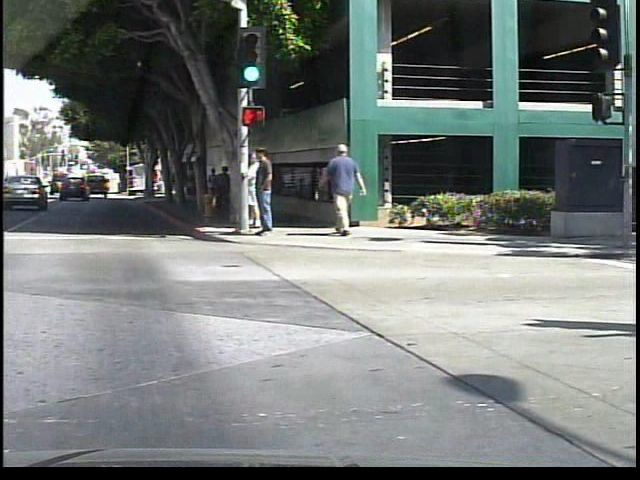person: (323, 141, 373, 239), (244, 139, 283, 244), (237, 148, 265, 229), (217, 164, 236, 220)
